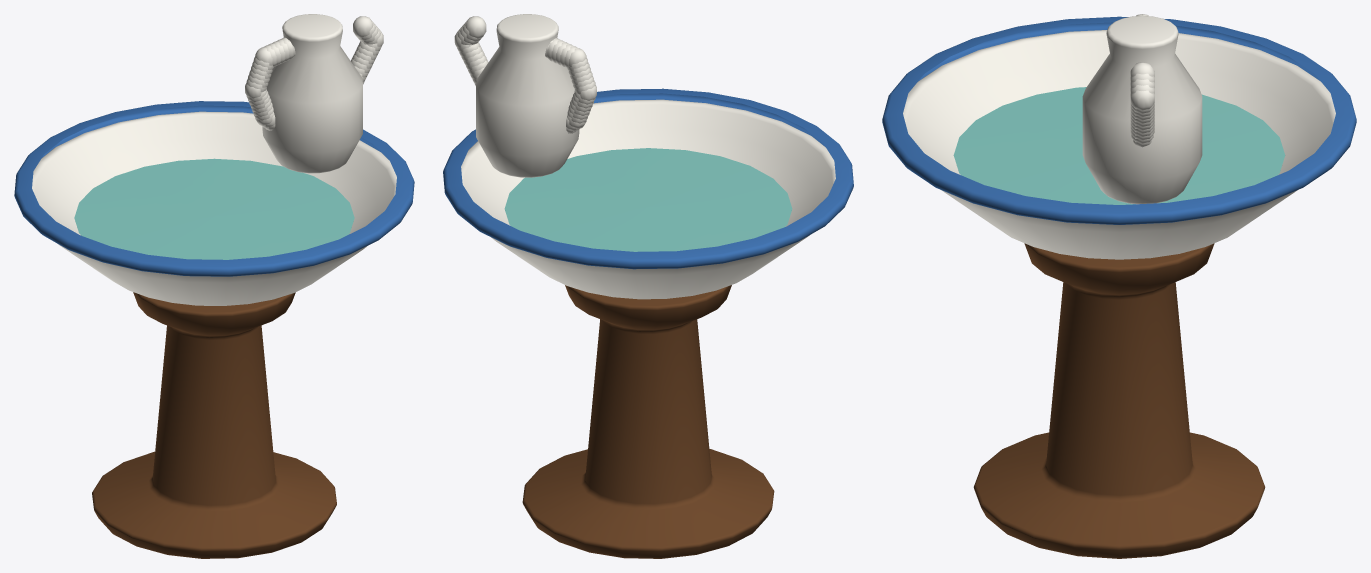
Rendered from wash_basin.glb.
3 views of the same model, side by side, from view 1: azimuth 30°, elevation 25°; view 2: azimuth 150°, elevation 25°; view 3: azimuth 270°, elevation 25° (orthographic). The views are drawn at different scales.
Parts seen in each view (by area): view 1: wash_basin; view 2: wash_basin; view 3: wash_basin.
Boxes of the visible parts, x1=… form: wash_basin: x1=14, y1=14, x2=414, y2=558; wash_basin: x1=443, y1=14, x2=853, y2=558; wash_basin: x1=882, y1=14, x2=1356, y2=558.
Bounding box in the file's own units: 1.04 × 1.28 × 1.03.
